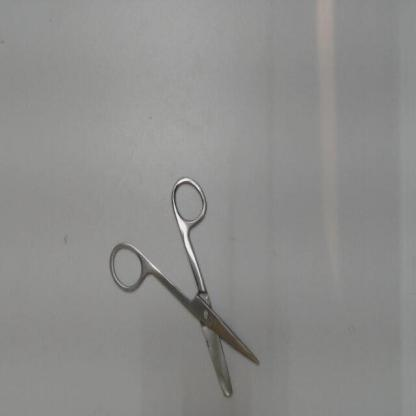Dressing Scissors: (103, 170, 266, 408)
